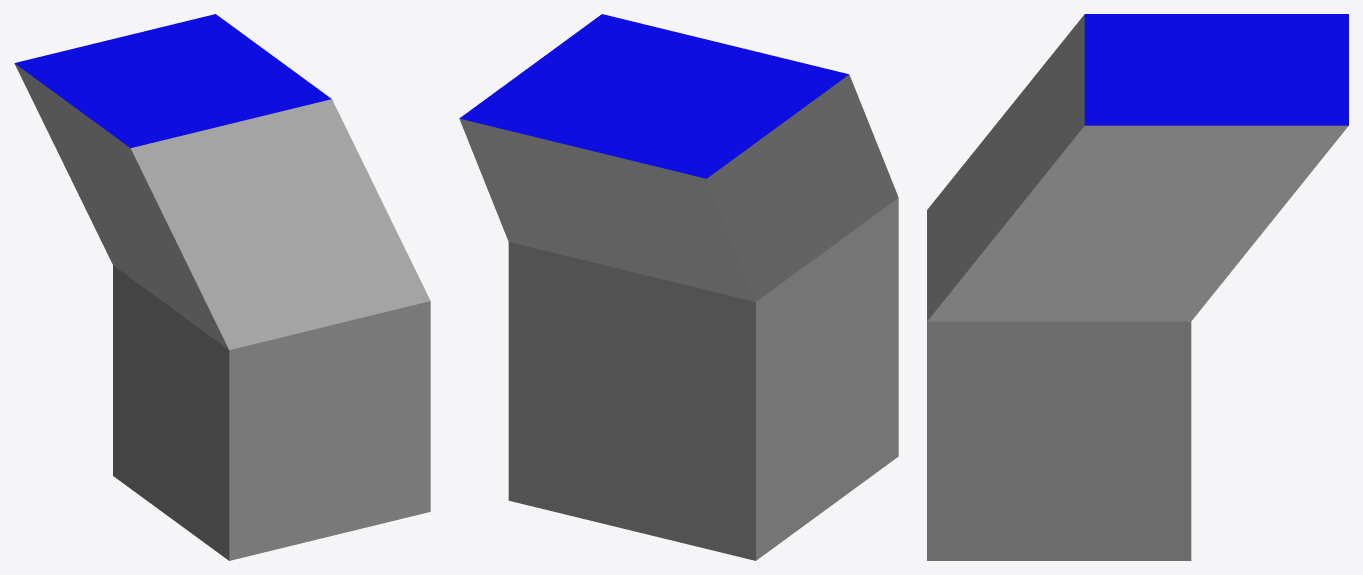
Rendered from material_cub.obj.
3 renders of one model, left to right at view 1: azimuth 30°, elevation 25°; view 2: azimuth 150°, elevation 25°; view 3: azimuth 270°, elevation 25°, orthographic. The views are drawn at different scales.
Visible parts, largest first — view 1: Cube; view 2: Cube; view 3: Cube.
Part boxes in pixels (x1,y1,x2,y2): Cube: (14,14,430,560); Cube: (459,14,898,560); Cube: (927,14,1348,560).
Bounding box in the file's own units: 2.29 × 3.5 × 3.19.
